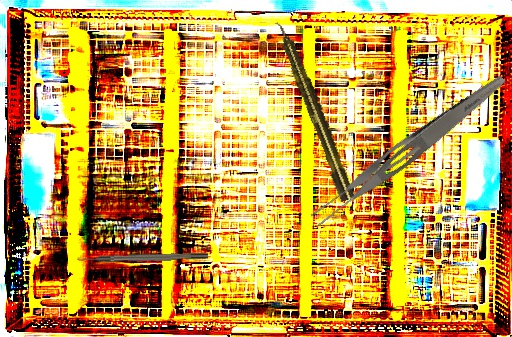Dressing Forceps: (306, 65, 510, 232)
Handpiece: (271, 18, 357, 203)
Hook Surgical: (76, 252, 209, 263)
